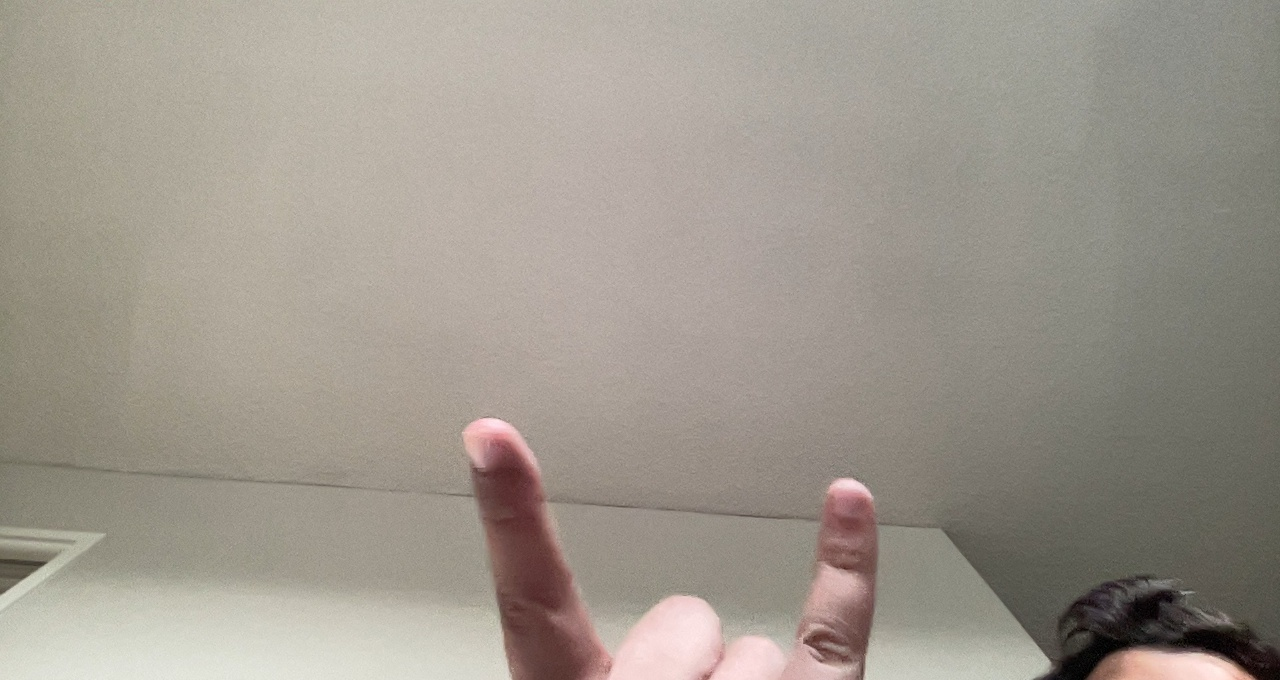rockon sign: (445, 379, 893, 678)
